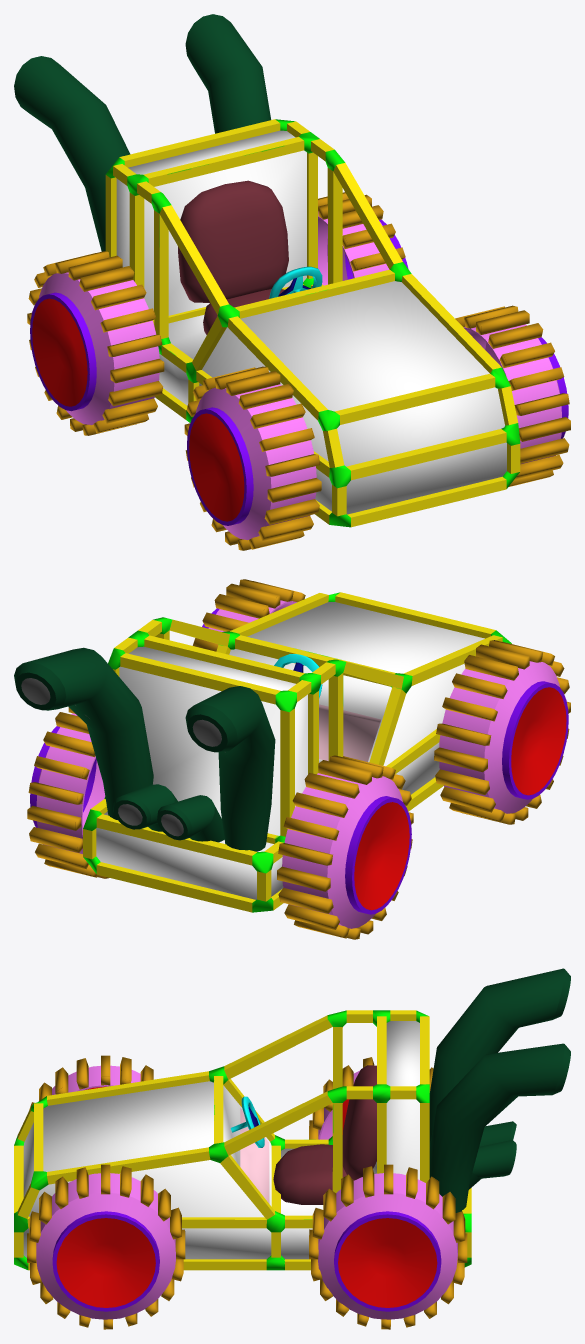
The model's file is Buggykart.fbx.
The picture shows the model from 3 angles, top to bottom: view 1: azimuth 30°, elevation 25°; view 2: azimuth 150°, elevation 25°; view 3: azimuth 270°, elevation 25°; orthographic projection. The views are drawn at different scales.
Visible parts, largest first — view 1: Body1, Body2, ban1, ban2, Cylinder, Seat.001, setir.001; view 2: Body1, ban1, Body2, Cylinder, ban2, setir.001; view 3: ban1, Body1, Body2, Cylinder, ban2, Seat.001, setir.001.
Boxes of the visible parts, x1=… form: Body1: x1=116, y1=130, x2=506, y2=514; Body2: x1=105, y1=119, x2=520, y2=527; ban1: x1=30, y1=211, x2=568, y2=540; ban2: x1=27, y1=192, x2=570, y2=550; Cylinder: x1=14, y1=14, x2=271, y2=251; Seat.001: x1=178, y1=180, x2=288, y2=334; setir.001: x1=269, y1=266, x2=322, y2=298; Body1: x1=96, y1=602, x2=484, y2=899; ban1: x1=30, y1=600, x2=568, y2=928; Body2: x1=83, y1=592, x2=511, y2=912; Cylinder: x1=14, y1=647, x2=275, y2=851; ban2: x1=27, y1=579, x2=570, y2=939; setir.001: x1=274, y1=654, x2=322, y2=698; ban1: x1=36, y1=1065, x2=457, y2=1319; Body1: x1=23, y1=1021, x2=419, y2=1259; Body2: x1=14, y1=1010, x2=471, y2=1270; Cylinder: x1=429, y1=968, x2=570, y2=1212; ban2: x1=27, y1=1055, x2=467, y2=1329; Seat.001: x1=273, y1=1065, x2=376, y2=1204; setir.001: x1=230, y1=1096, x2=264, y2=1147.
Size of the model in its own units: 246 by 208 by 410.
1 material, 1 textured.
